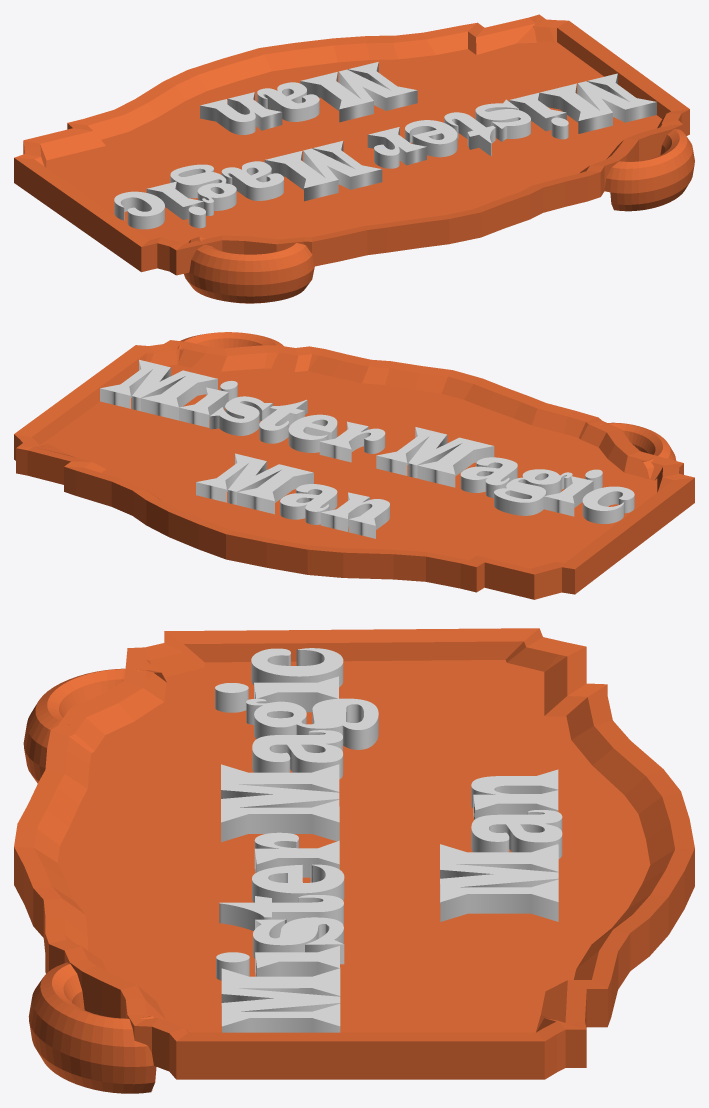
Rendered from textsign.fbx.
3 views of the same model, one above another, from view 1: azimuth 30°, elevation 25°; view 2: azimuth 150°, elevation 25°; view 3: azimuth 270°, elevation 25° (orthographic). The views are drawn at different scales.
Visible parts, largest first — view 1: Plane.001, Plane, Tajjda; view 2: Plane.001, Plane, Tajjda; view 3: Plane.001, Plane, Tajjda.
Part boxes in pixels (x1=…): Plane.001: x1=46, y1=41, x2=662, y2=243; Plane: x1=14, y1=14, x2=694, y2=303; Tajjda: x1=114, y1=62, x2=656, y2=229; Plane.001: x1=41, y1=364, x2=657, y2=568; Plane: x1=14, y1=332, x2=694, y2=599; Tajjda: x1=100, y1=359, x2=634, y2=538; Plane.001: x1=57, y1=660, x2=650, y2=1032; Plane: x1=14, y1=628, x2=694, y2=1093; Tajjda: x1=215, y1=648, x2=562, y2=1032.
Size of the model in its own units: 456 by 39.49 by 318.
